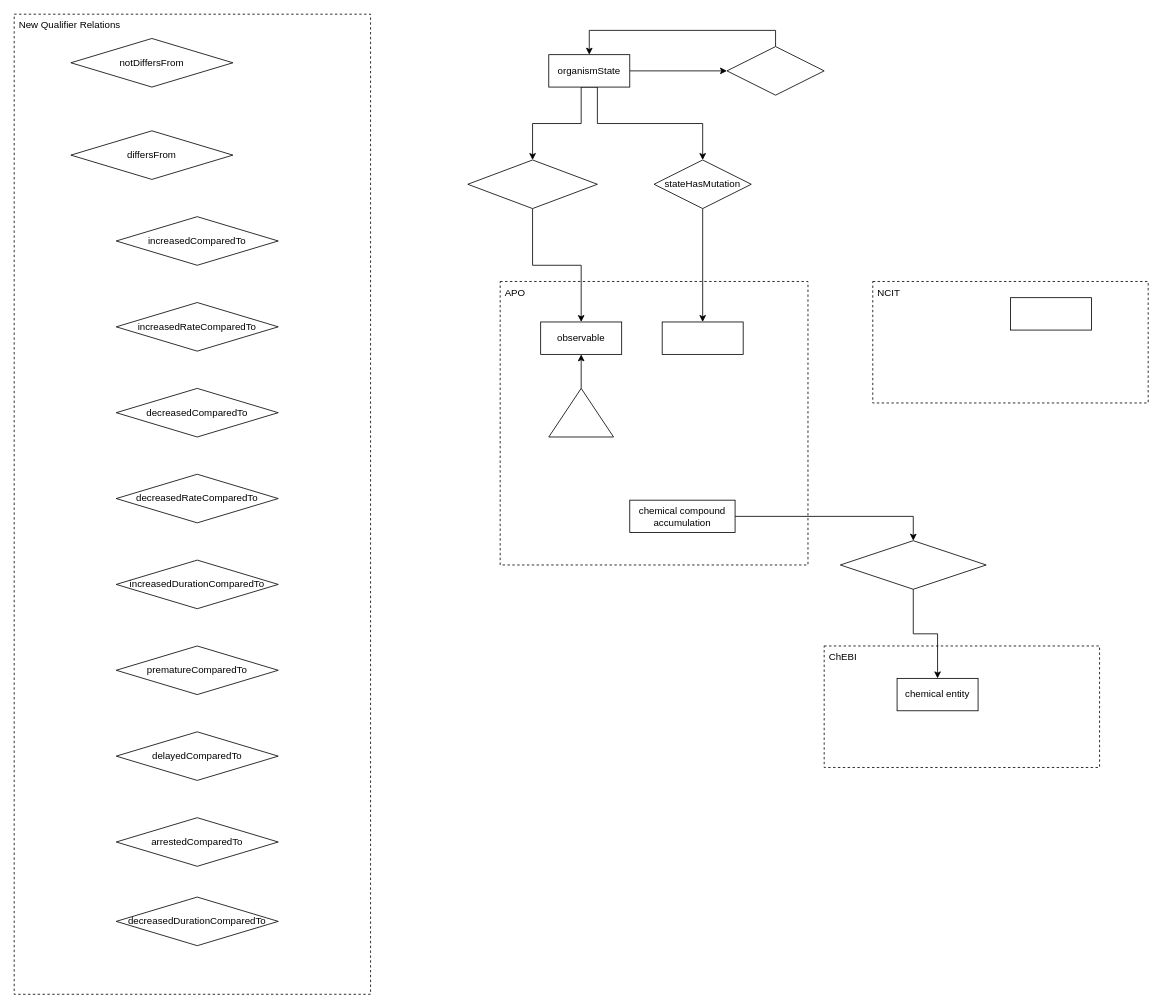
This 1162x1008 diagram has some shape labels left out. The shapes that lost their labels are listed below. From the top down, each one's box as (x1, y1, x2, y2) in pixels, then its label:
(726, 46, 824, 95): implies
(467, 159, 597, 209): stateHasObservable
(1010, 297, 1091, 330): Gene
(661, 321, 743, 354): mutant_type
(548, 388, 614, 437): ISA
(840, 540, 986, 589): accumulationOfChemical
